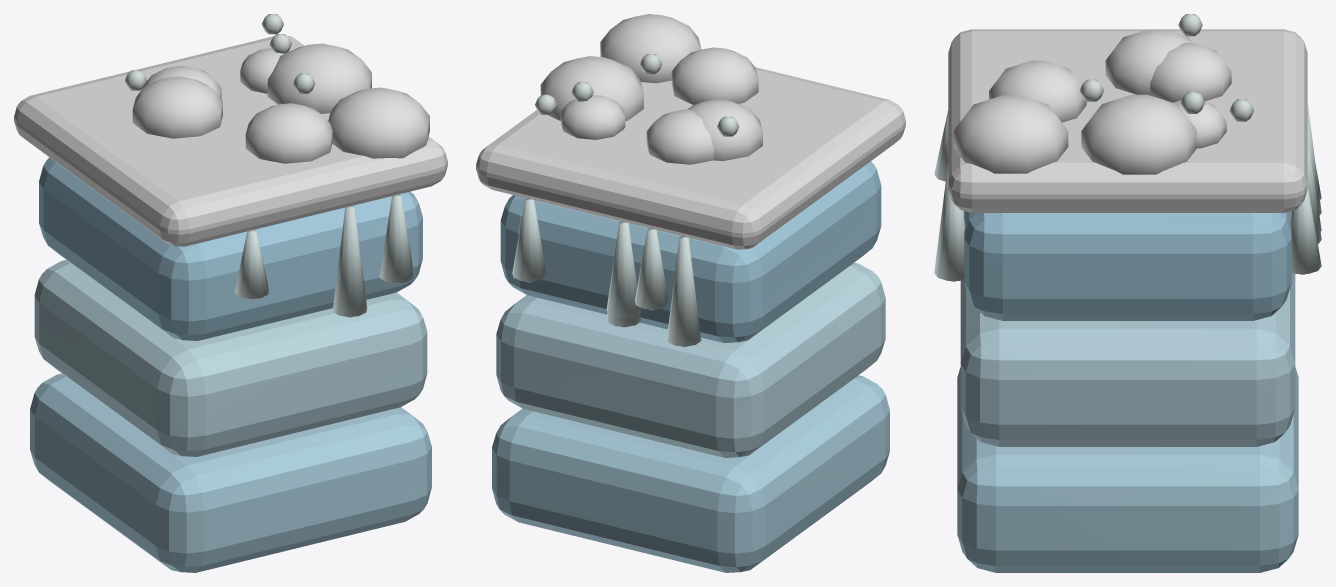
File: gym_wall_lake_lite.glb
3 views of the same model, side by side, from view 1: azimuth 30°, elevation 25°; view 2: azimuth 150°, elevation 25°; view 3: azimuth 270°, elevation 25° (orthographic). The views are drawn at different scales.
Visible parts, largest first — view 1: Cube; view 2: Cube; view 3: Cube.
Part boxes in pixels (bbox=[...]): Cube: bbox=[14, 14, 447, 572]; Cube: bbox=[476, 14, 905, 572]; Cube: bbox=[934, 14, 1321, 572].
Bounding box in the file's own units: 2.04 × 2.91 × 2.2.
